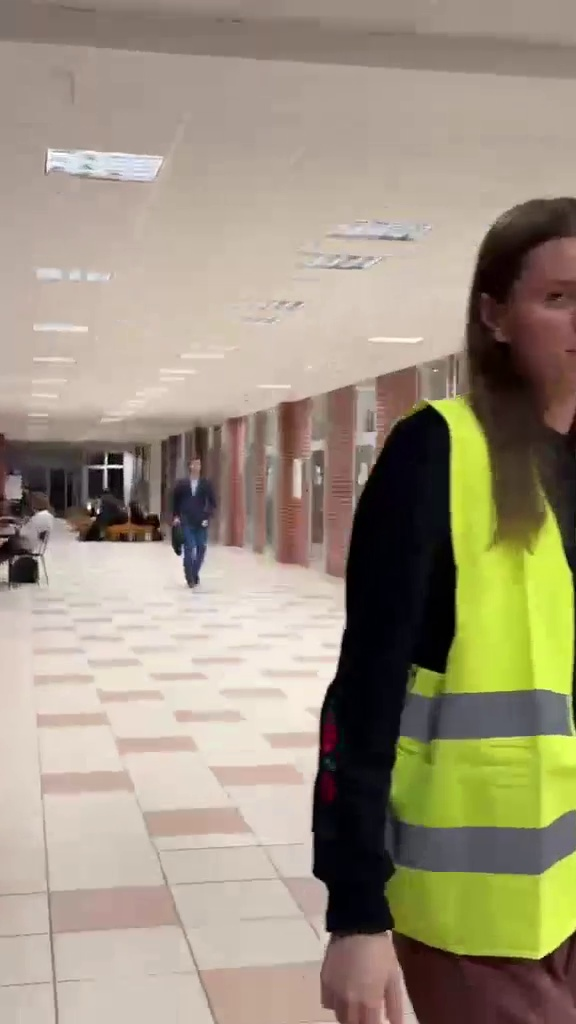no vest: (168, 459, 218, 581)
vest: (290, 193, 576, 1021)
